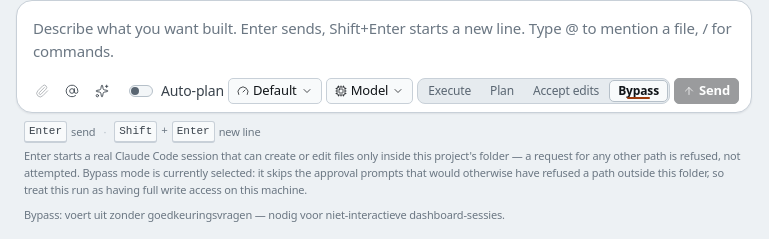
Scenario: Composer send-mode/effort picker (composer-modes-ui) › never shows the bypass sentence once Execute is explicitly selected
Click the radio button labelled "Execute" at coordinates (450, 91), box [419,80,480,102]
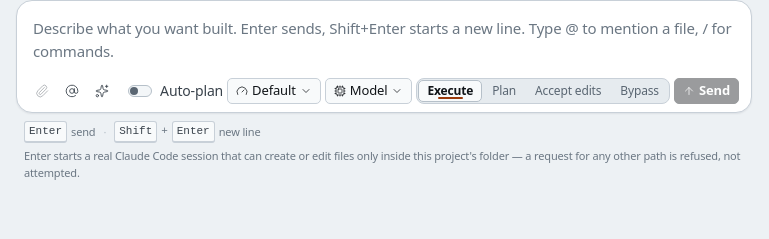
Check: the text "voert uit zonder goedkeuringsvragen" is gone
